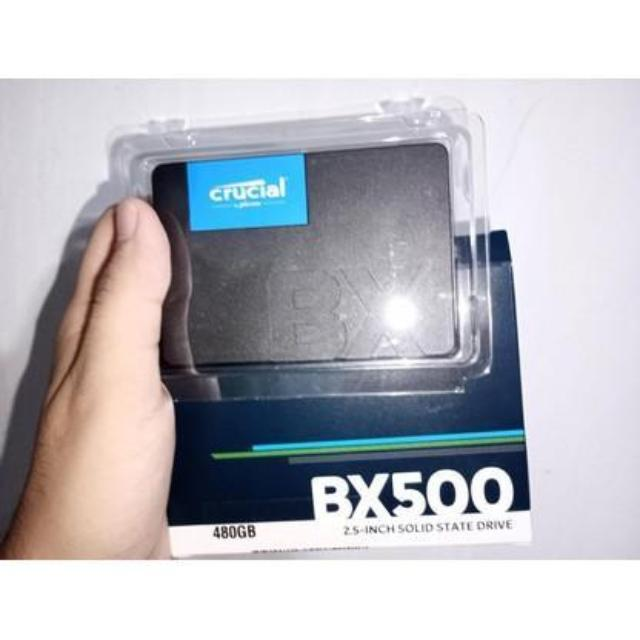DISK: (146, 141, 469, 376)
